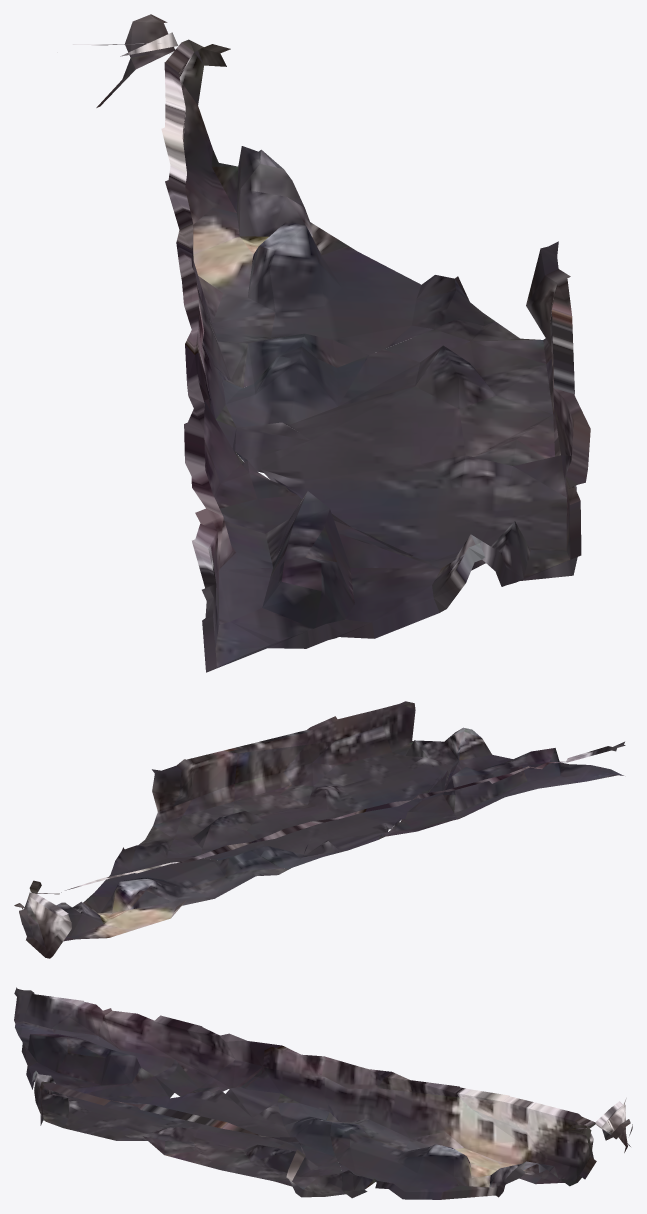
3 renders of one model, top to bottom at view 1: azimuth 30°, elevation 25°; view 2: azimuth 150°, elevation 25°; view 3: azimuth 270°, elevation 25°, orthographic. The views are drawn at different scales.
Parts seen in each view (by area): view 1: Mesh_0; view 2: Mesh_0; view 3: Mesh_0.
Part boxes in pixels (x1=…): Mesh_0: x1=73, y1=14, x2=590, y2=672; Mesh_0: x1=14, y1=701, x2=625, y2=958; Mesh_0: x1=14, y1=987, x2=632, y2=1199.
Size of the model in its own units: 24.4 by 5.17 by 41.09.
Materials: 1 (1 with a texture image).
